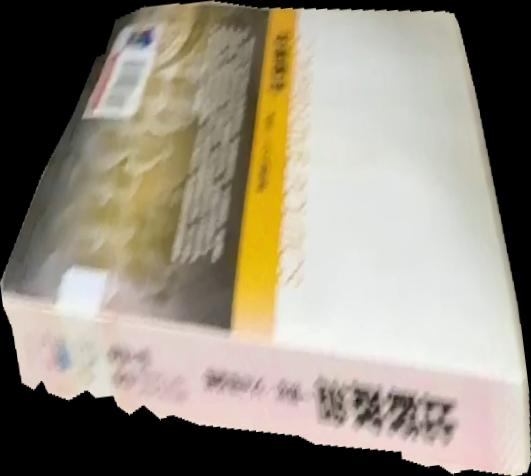flat: (1, 1, 531, 476)
